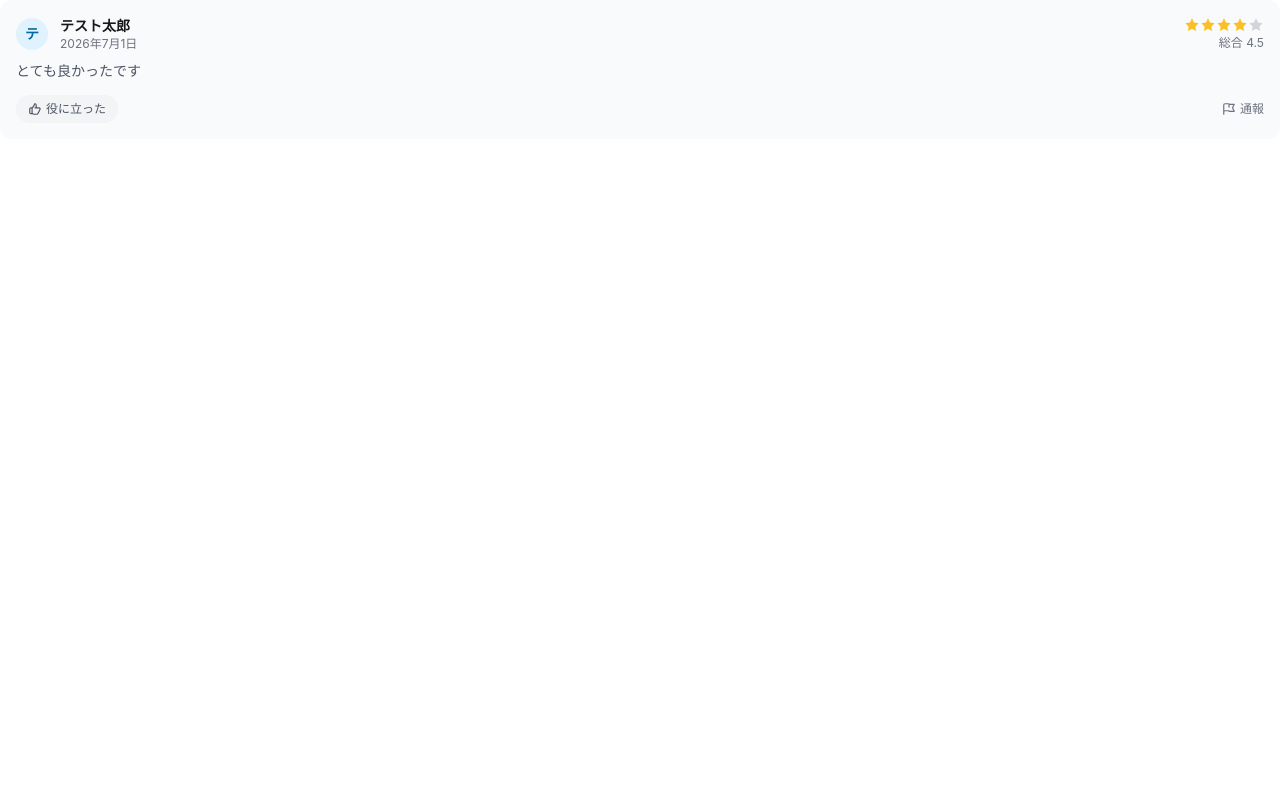
Test: 未ログイン時に通報ボタンを押すと「ログインが必要です」ダイアログを表示し、通報確認ダイアログは出さない
Step 1. Click the button with aria-label "この口コミを通報する" → x=1243, y=109, box [1222,101,1264,117]
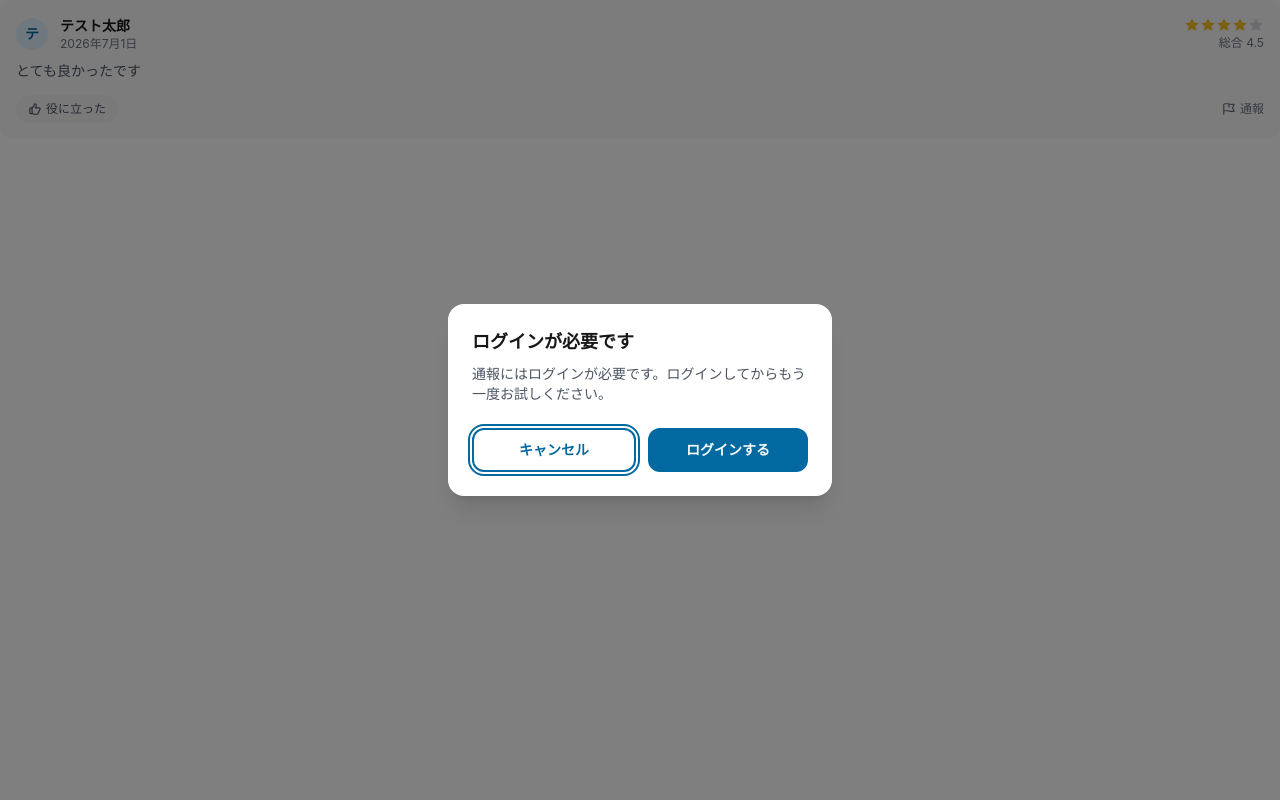
Expected: the heading "ログインが必要です" is shown, [472,331,634,352]
Expected: the text "通報にはログインが必要です。ログインしてからもう一度お試しください。" is shown, [472,364,808,404]
